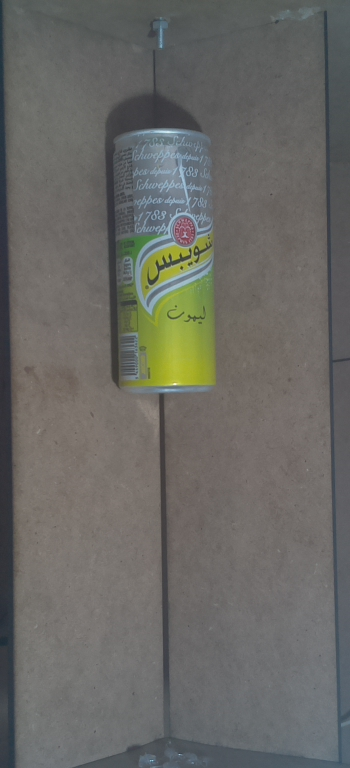Canette: (101, 116, 227, 408)
